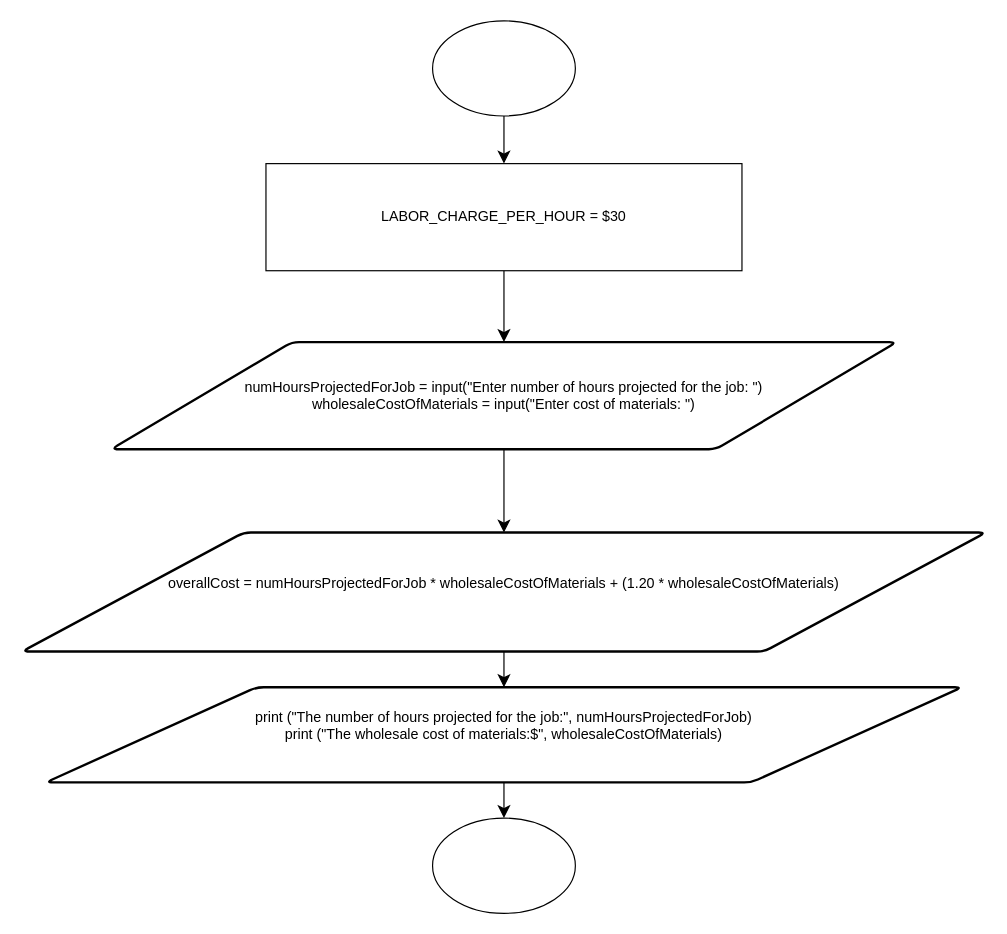
Image size: 1007x934. Some labels were removed from this diagram. The centre of each missing label's shape, as x and y in pixels:
end: point (503, 865)
start: point (503, 68)
